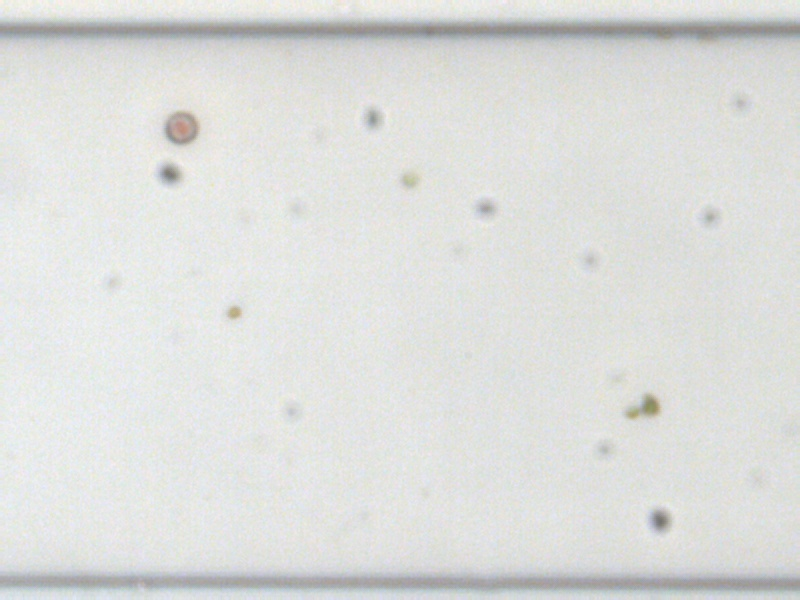Chlorella: (401, 167, 421, 189), (640, 394, 660, 415)
Porphyridium: (161, 111, 203, 146), (224, 303, 240, 319)
